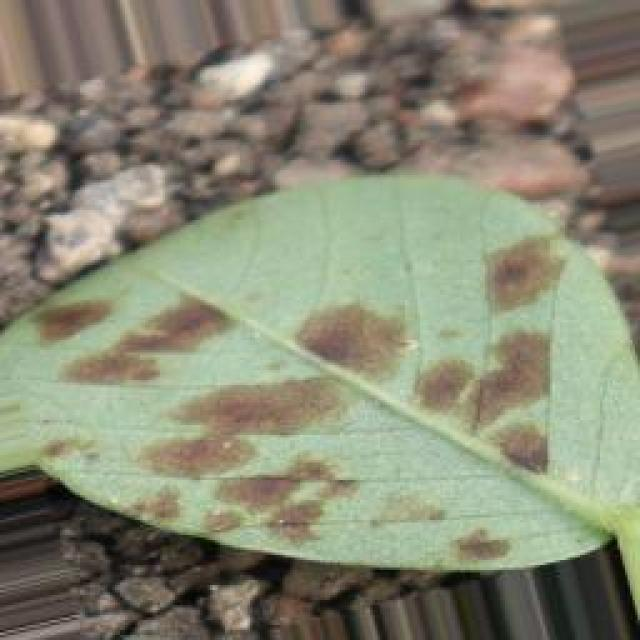Whitefly: (0, 207, 598, 568)
